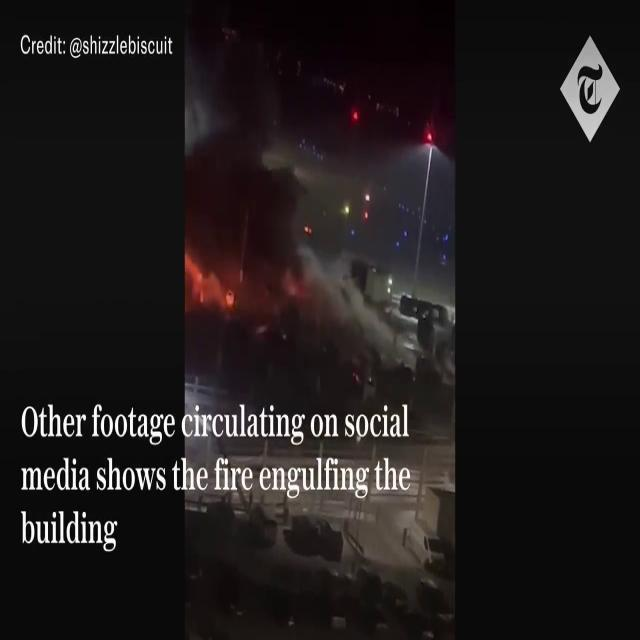Fire: (185, 245, 237, 315)
Smoke: (185, 1, 321, 317)
